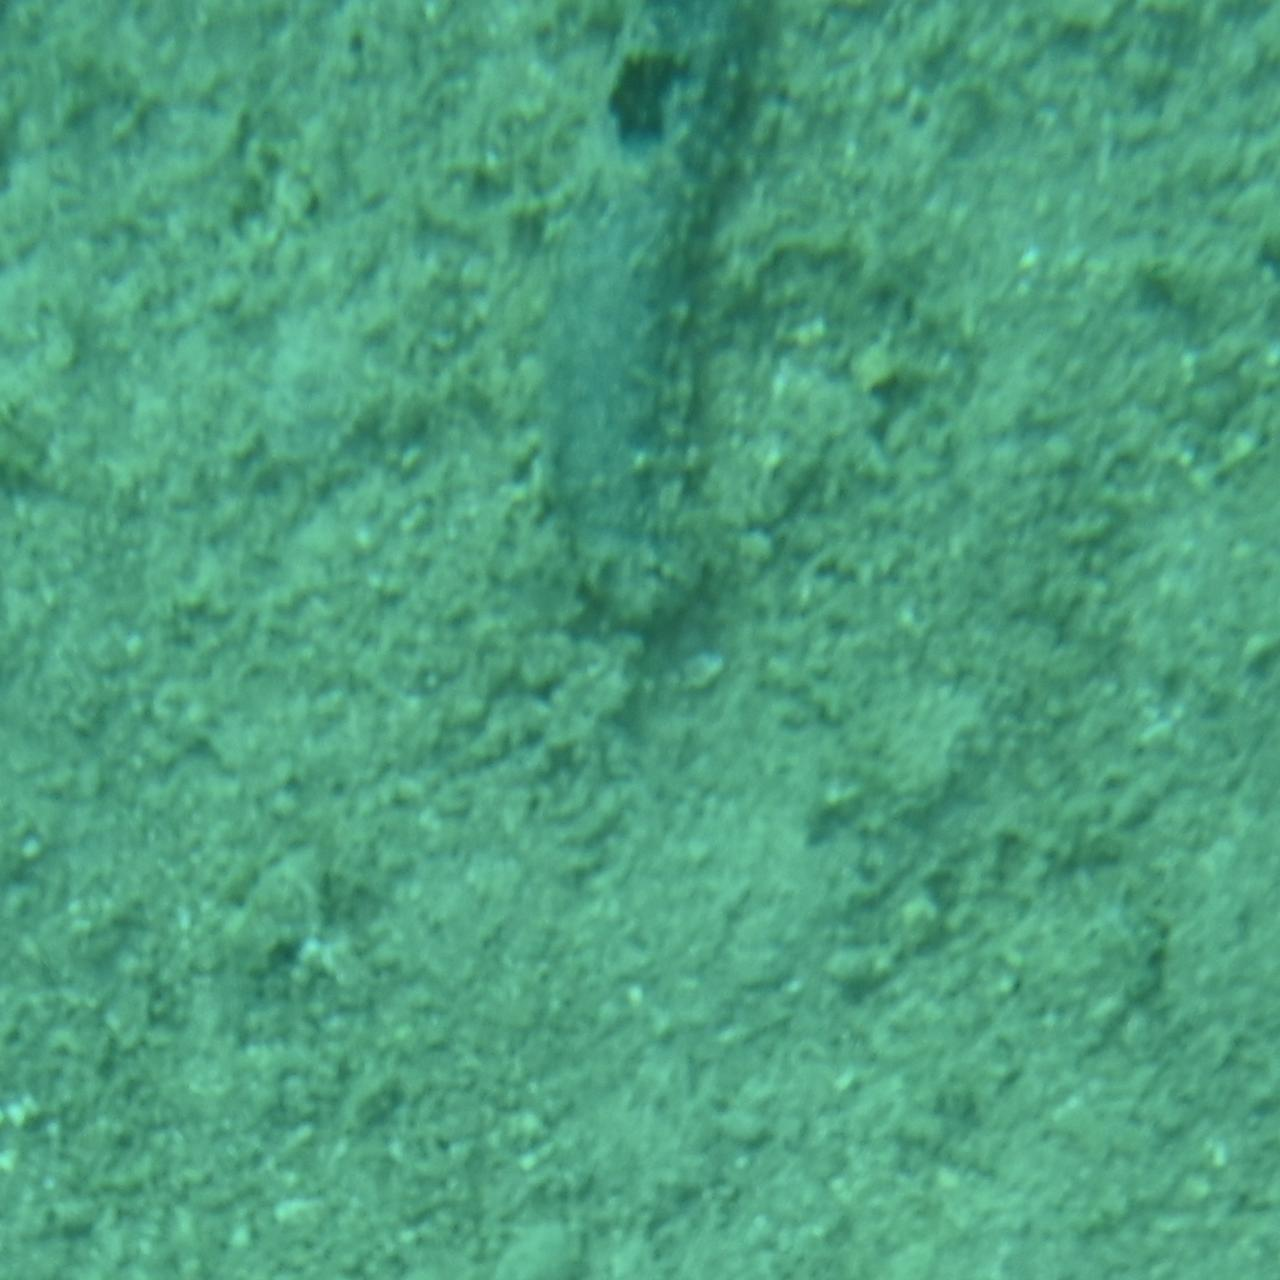Holothuria tubulosa: (510, 1, 770, 645)
